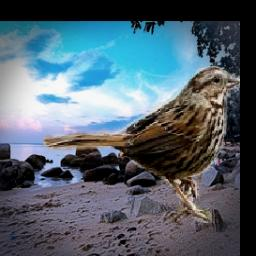Sparrow: (43, 65, 240, 224)
